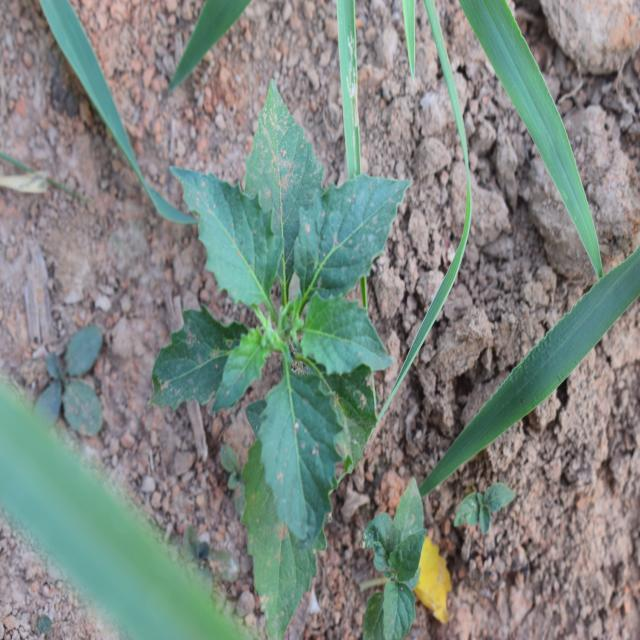Black_nightshade: (167, 129, 395, 541), (360, 495, 442, 627)
